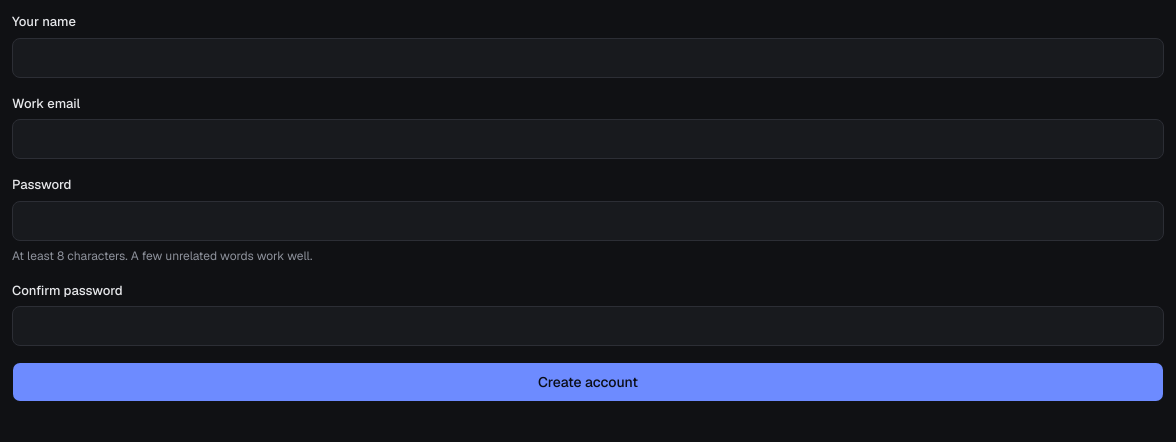
Test case: SignUpForm › says a password mismatch under the password field, tied to it
The width and height of the screenshot is (1176, 442).
In the field labelled "Work email": (588, 139) x1=12 y1=119 x2=1164 y2=159, type "ada@example.com"
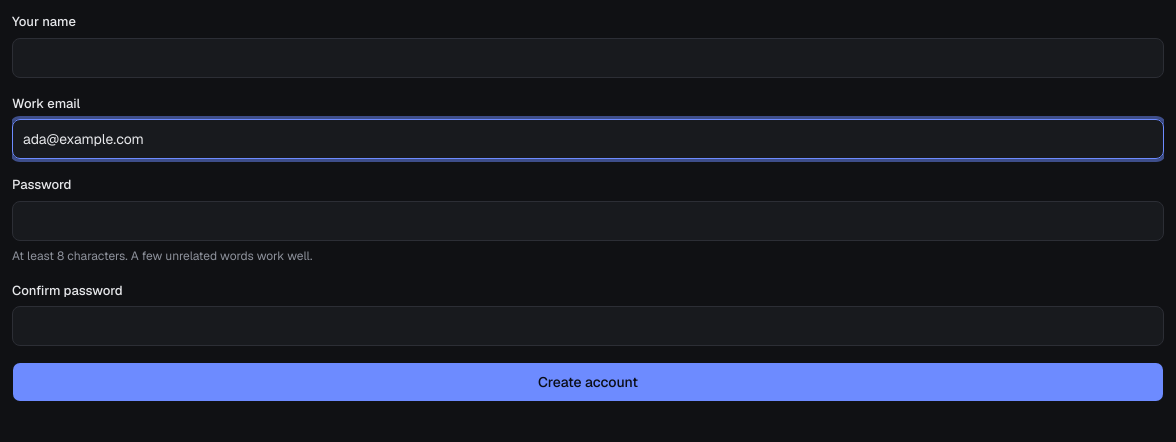
In the password field labelled "Password": (588, 220) x1=12 y1=200 x2=1164 y2=240, type "correct horse"
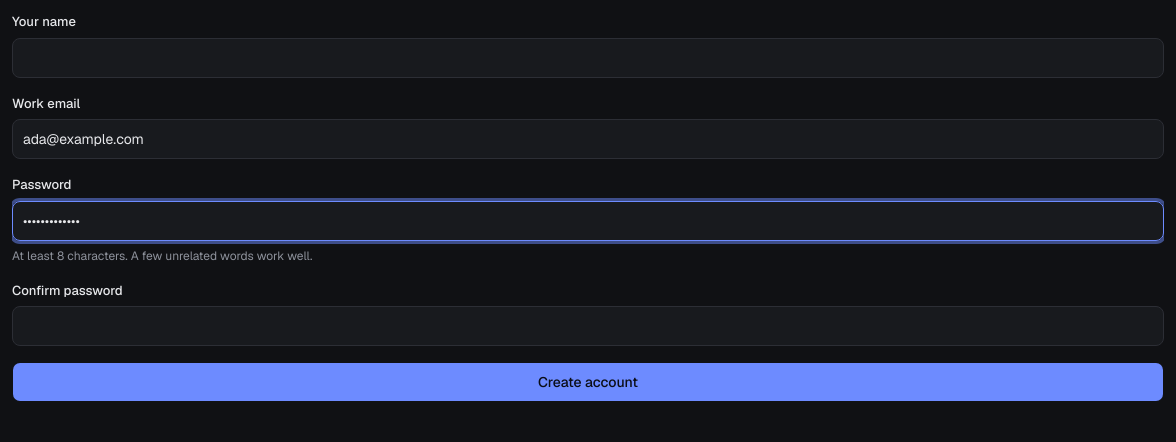
In the password field labelled "Confirm password": (588, 326) x1=12 y1=306 x2=1164 y2=346, type "correct house"
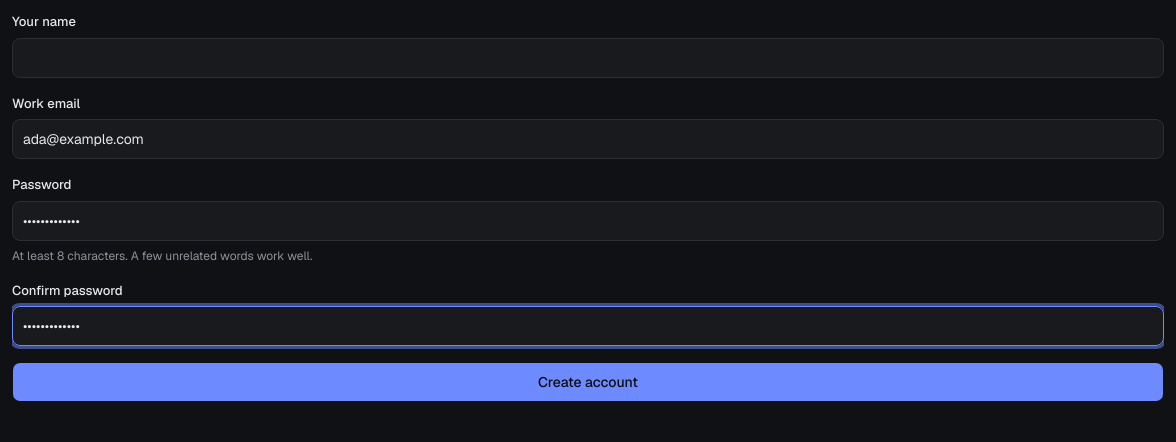
Click the button "Create account": (588, 382) x1=12 y1=362 x2=1164 y2=402
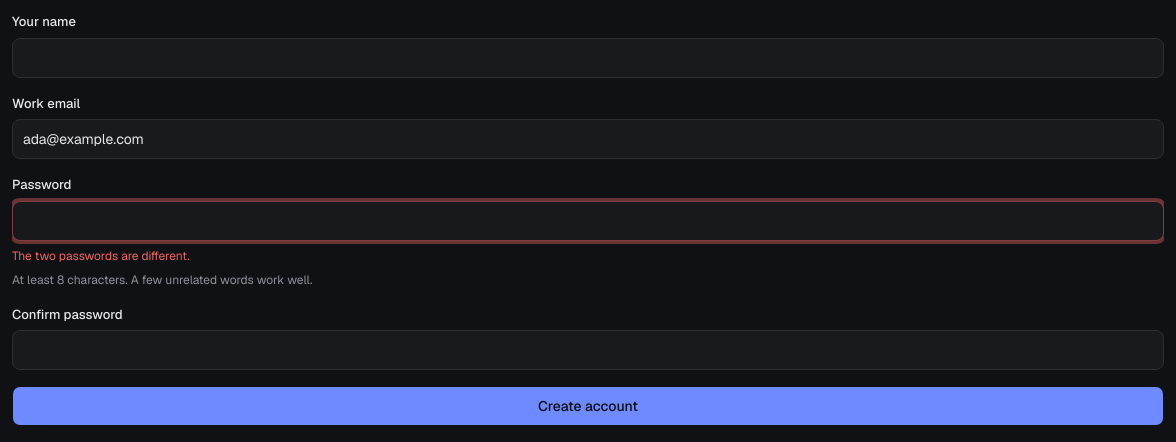
Check: the text "The two passwords are different." is shown once, box x1=12 y1=248 x2=190 y2=264
